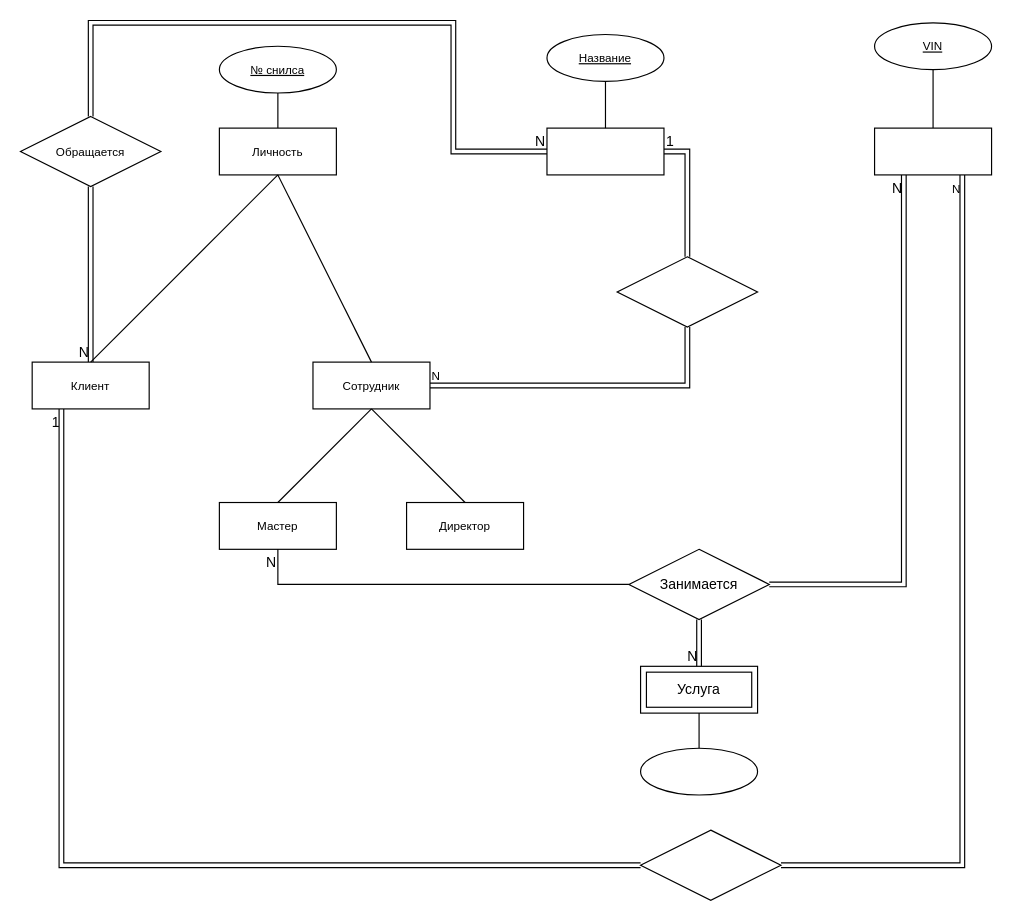
This 1012x921 diagram has some shape labels left out. The centre of each missing label's shape, as x and y in pixels:
ID: point (698, 771)
Автомастерская: point (605, 151)
Автомобиль: point (932, 151)
Владеет: point (710, 864)
Работает: point (687, 291)
